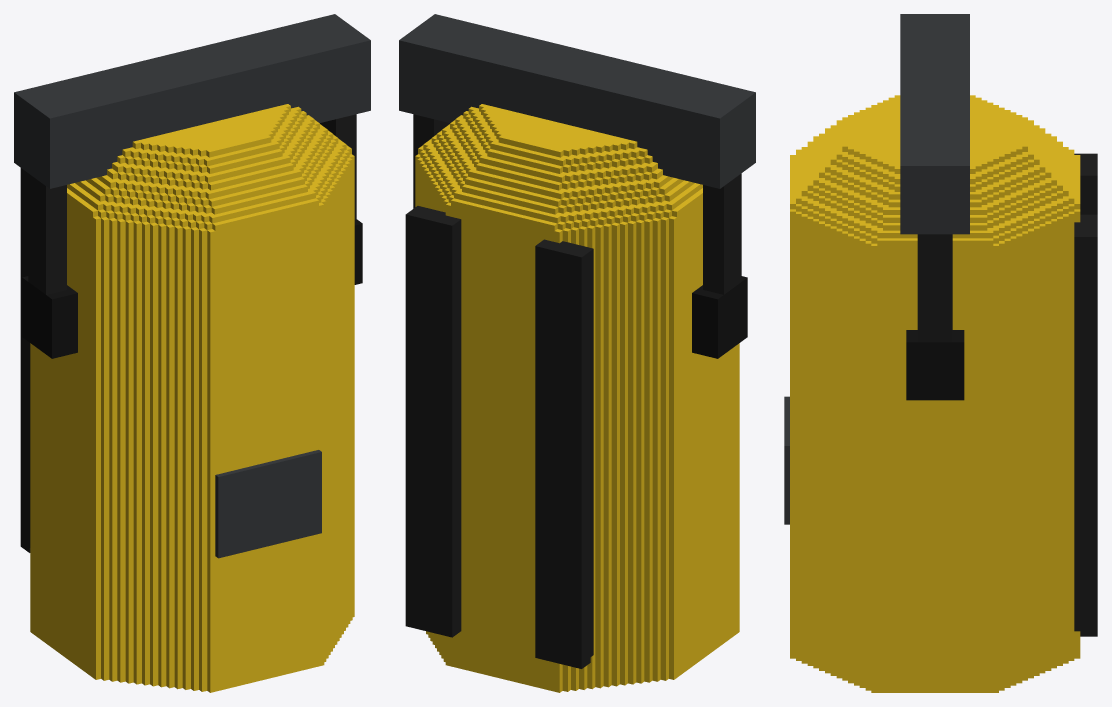
The model's file is dry_bag.glb.
3 renders of one model, left to right at view 1: azimuth 30°, elevation 25°; view 2: azimuth 150°, elevation 25°; view 3: azimuth 270°, elevation 25°, orthographic. The views are drawn at different scales.
Parts seen in each view (by area): view 1: dry_bag:compound; view 2: dry_bag:compound; view 3: dry_bag:compound.
Boxes of the visible parts, left/top/right/bottom form: dry_bag:compound: left=14, top=14, right=370, bottom=692; dry_bag:compound: left=399, top=14, right=755, bottom=692; dry_bag:compound: left=784, top=14, right=1097, bottom=692.
Size of the model in its own units: 0.248 by 0.412 by 0.216.
